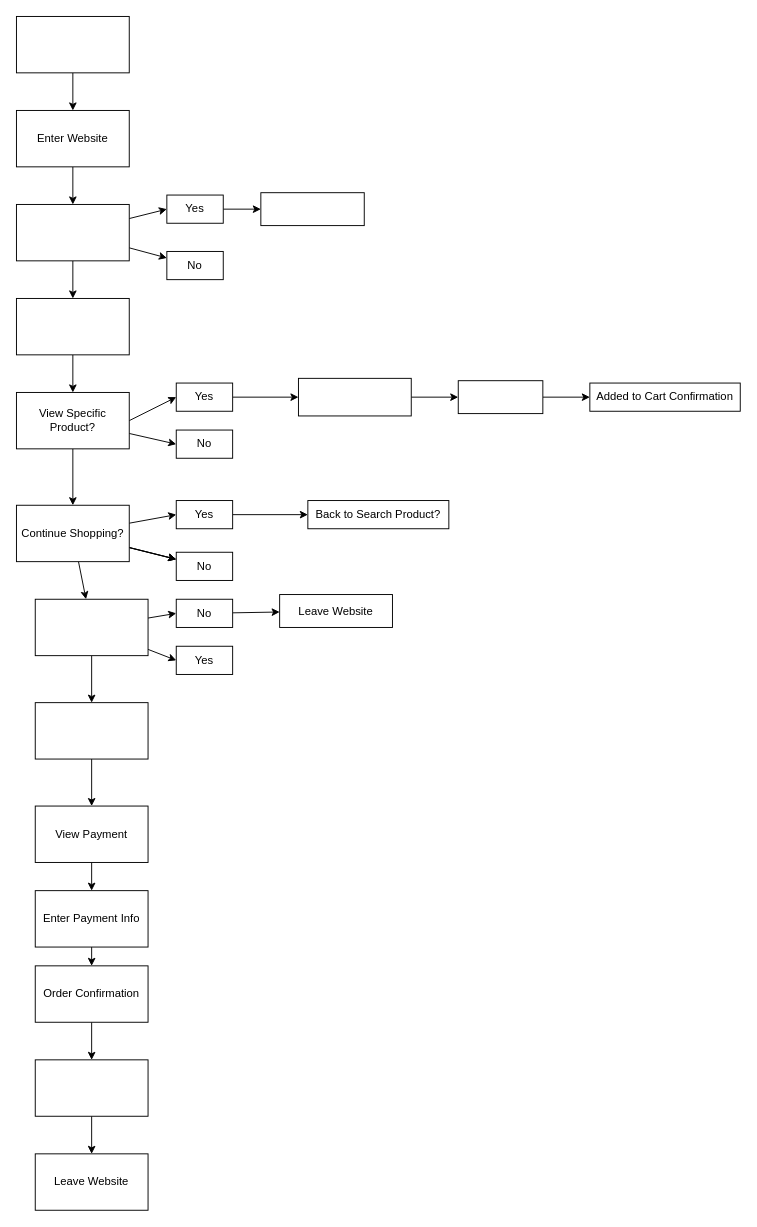
This 757x1227 diagram has some shape labels left out. The shapes that lost their labels are listed below. From the top down, each one's centre as x and y in pixels, then its label:
At (72,44): "Start".
At (312,209): "Enter Search Input".
At (72,232): "Search Product?".
At (72,326): "Browse Products".
At (354,396): "Open Product Page".
At (500,397): "Add to Cart?".
At (91,627): "Checkout?".
At (91,730): "View Cart".
At (91,1087): "Send Email".
